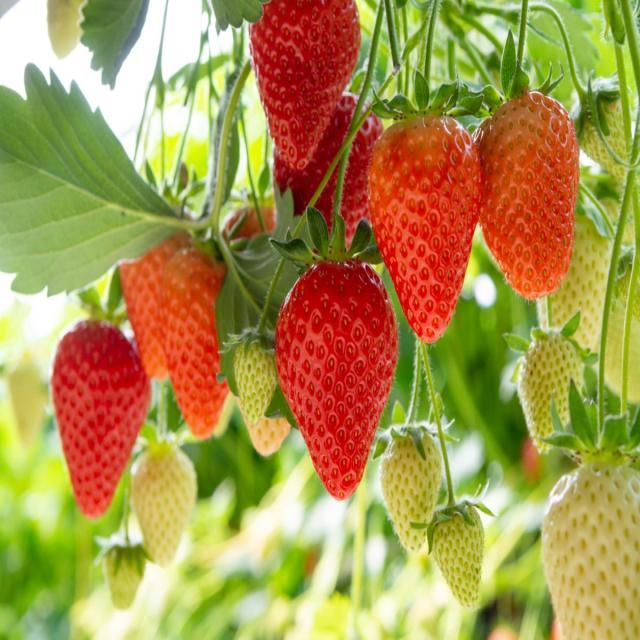ripe: (277, 248, 397, 498), (369, 110, 482, 341), (475, 90, 581, 304), (52, 320, 150, 515), (249, 2, 361, 169), (160, 240, 236, 437)
unripe: (542, 449, 640, 640), (518, 327, 582, 453), (130, 442, 197, 561), (382, 425, 440, 554), (430, 499, 484, 609), (575, 80, 630, 182), (236, 335, 280, 422), (105, 539, 145, 606)
